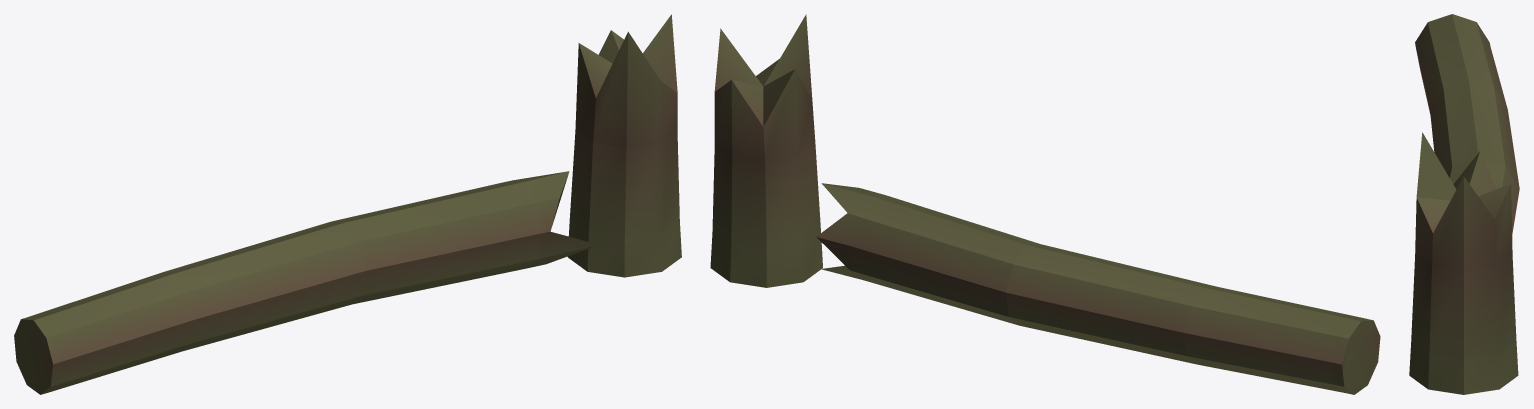
Rendered from totem_stump.glb.
The picture shows the model from 3 angles, left to right: view 1: azimuth 30°, elevation 25°; view 2: azimuth 150°, elevation 25°; view 3: azimuth 270°, elevation 25°; orthographic projection. The views are drawn at different scales.
Parts seen in each view (by area): view 1: totem_stump; view 2: totem_stump; view 3: totem_stump.
Part boxes in pixels (x1,y1,x2,y2): totem_stump: (14, 14, 681, 394); totem_stump: (710, 14, 1380, 394); totem_stump: (1409, 14, 1519, 394).
Bounding box in the file's own units: 1.88 × 0.67 × 0.2901.
